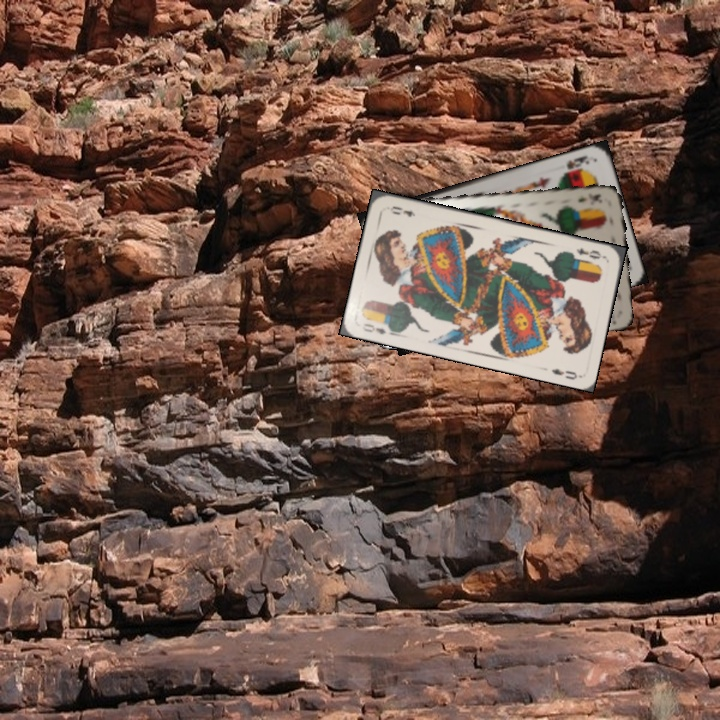EK: (574, 189, 605, 205)
EO: (358, 319, 397, 338), (572, 243, 607, 262)
SK: (562, 151, 592, 172)
